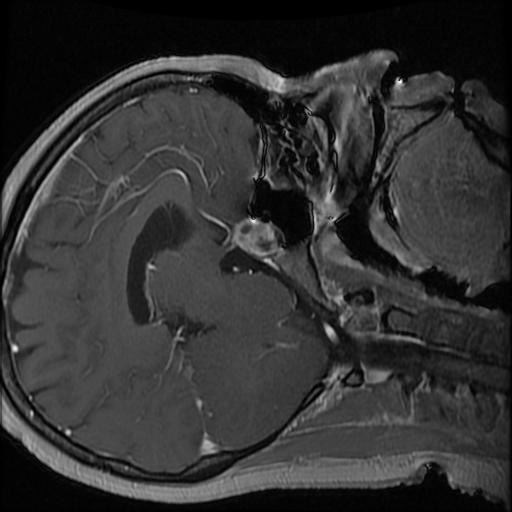pituitary tumour: (233, 218, 278, 256)
